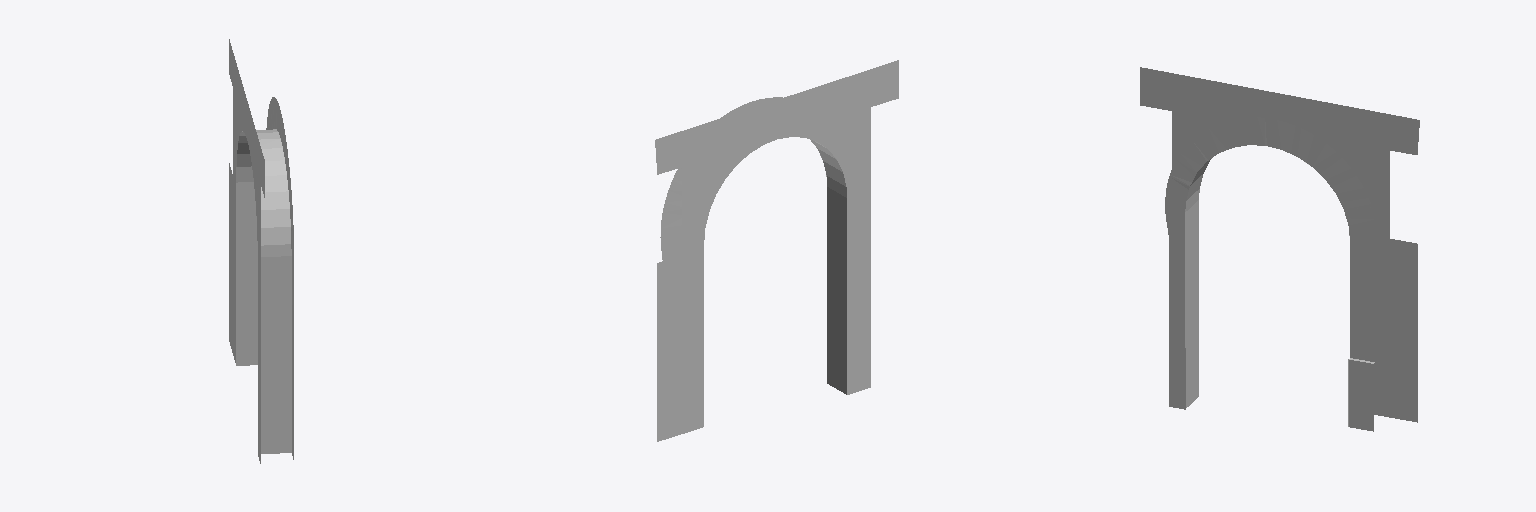
File: Pedret_XIII_nau.obj
3 views of the same model, side by side, from view 1: azimuth 30°, elevation 25°; view 2: azimuth 150°, elevation 25°; view 3: azimuth 270°, elevation 25° (orthographic).
Visible parts, largest first — view 1: PEDRET_XIII-baked-nau; view 2: PEDRET_XIII-baked-nau; view 3: PEDRET_XIII-baked-nau.
Boxes of the visible parts, x1,y1,x2,y2 form: PEDRET_XIII-baked-nau: [229, 39, 293, 463]; PEDRET_XIII-baked-nau: [655, 60, 898, 441]; PEDRET_XIII-baked-nau: [1140, 67, 1419, 431].
Size of the model in its own units: 2.49 by 6.27 by 4.99.